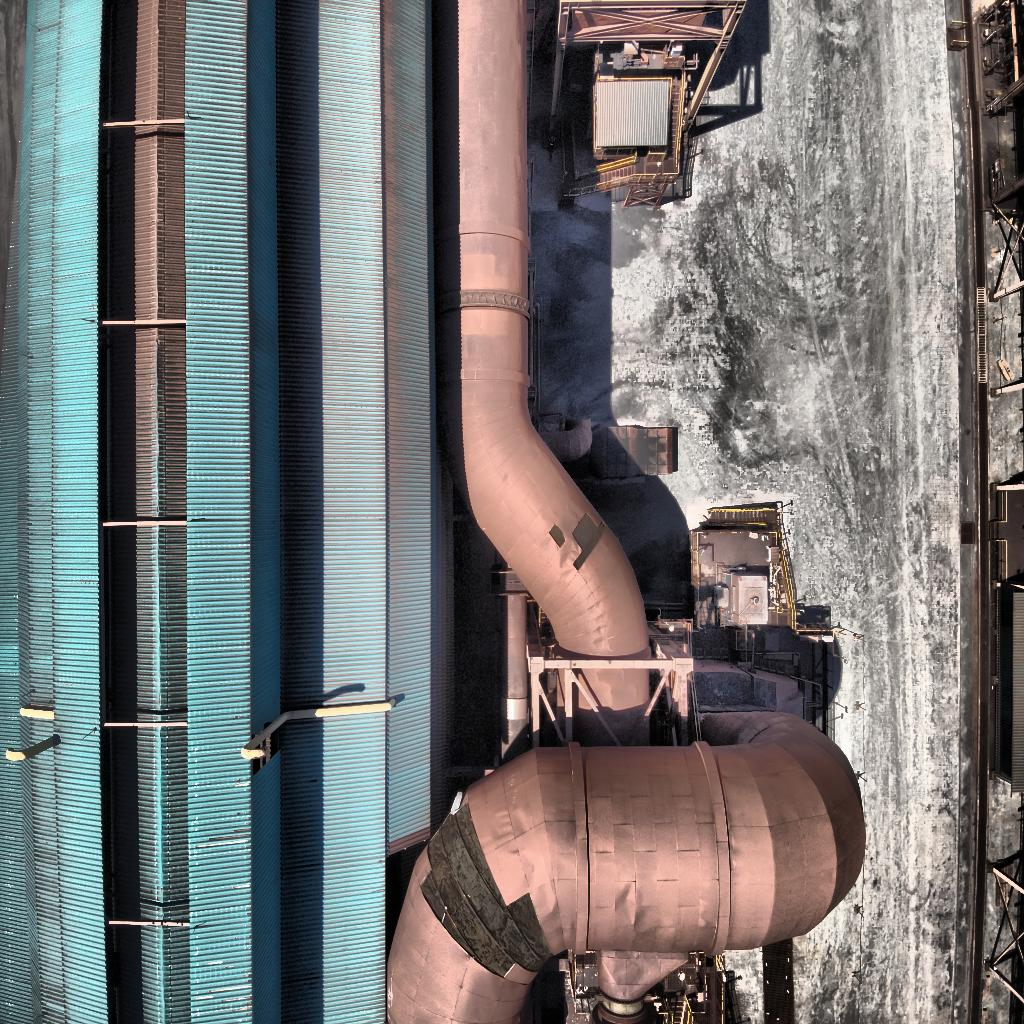Failures: (424, 800, 556, 986), (572, 512, 606, 570), (549, 524, 565, 553)
